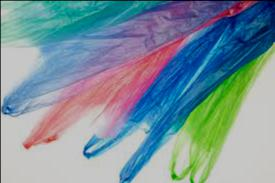Plastic: (79, 1, 274, 178), (164, 1, 274, 182)
